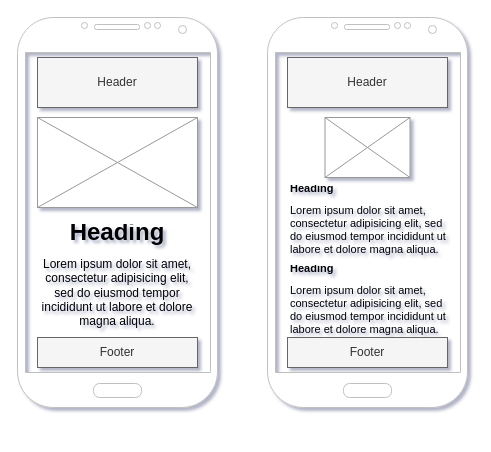
Image size: 491x452. Some labels were removed from this diagram. Here are the shapes that lost their labels. From the top down, the box of each, then its label:
(16, 16, 218, 408): Home Page
(266, 16, 468, 408): About Me
